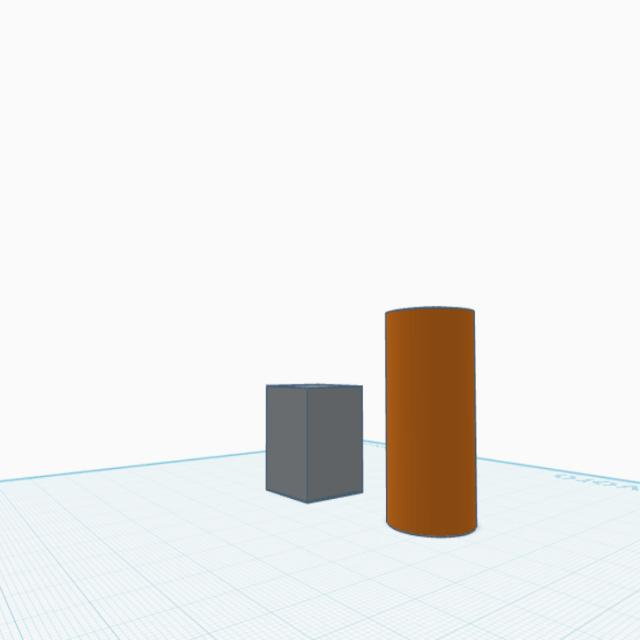cube: (264, 376, 366, 504)
